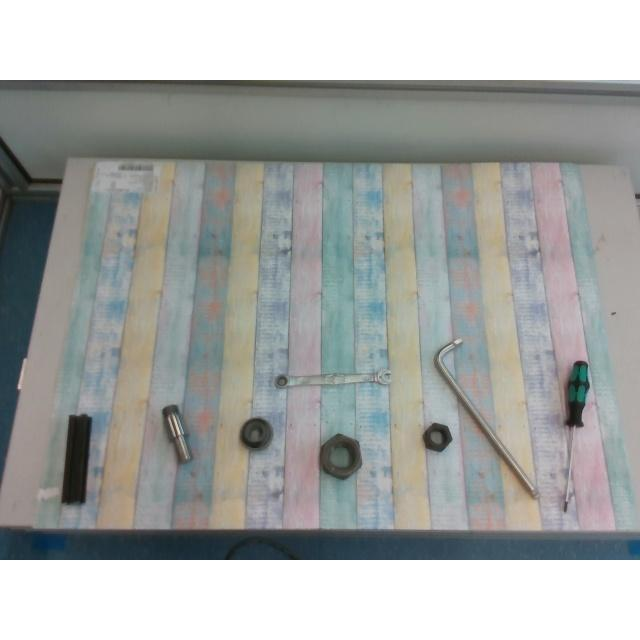AllenKey: (433, 338, 539, 498)
Axis2: (161, 404, 191, 460)
Bearing2: (240, 418, 272, 450)
F20_20_B: (62, 412, 94, 503)
M20: (423, 422, 452, 452)
M30: (319, 434, 361, 478)
Screwdriver: (562, 361, 590, 512)
Wrench: (276, 370, 392, 386)
